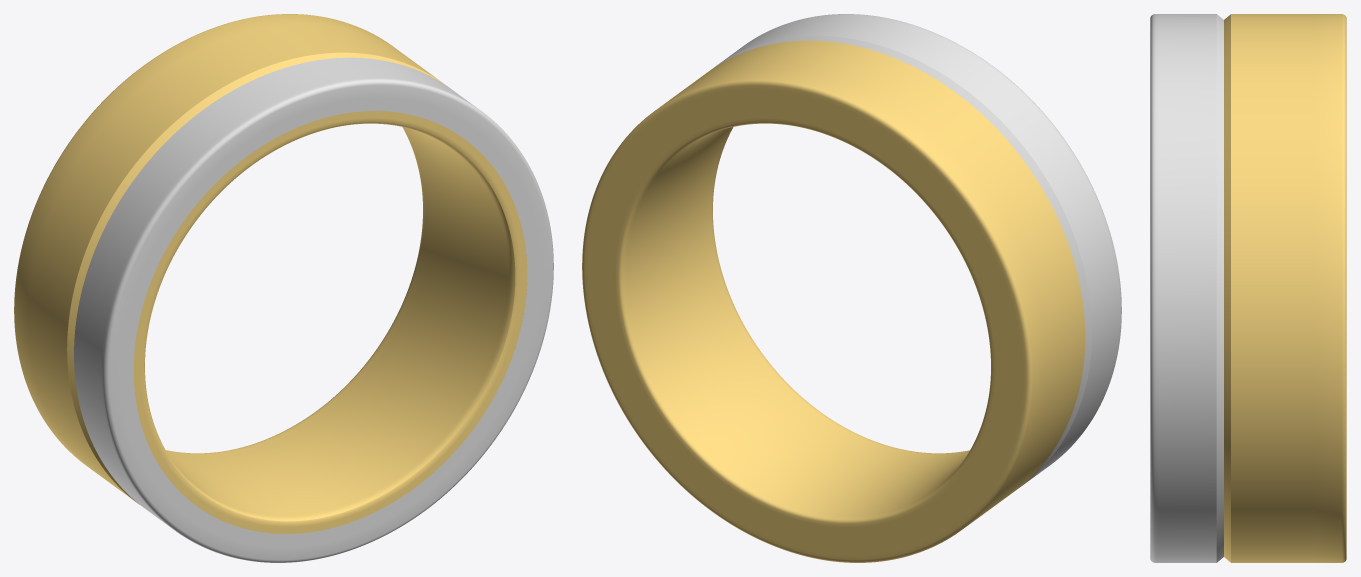
File: DavidYGPT_blender.glb
The picture shows the model from 3 angles, left to right: view 1: azimuth 30°, elevation 25°; view 2: azimuth 150°, elevation 25°; view 3: azimuth 270°, elevation 25°; orthographic projection. The views are drawn at different scales.
Parts seen in each view (by area): view 1: David YG for Render, David PT for Render; view 2: David YG for Render, David PT for Render; view 3: David YG for Render, David PT for Render.
Part boxes in pixels (x1,y1,x2,y2): David YG for Render: [14, 14, 527, 533]; David PT for Render: [74, 57, 553, 562]; David YG for Render: [582, 40, 1085, 562]; David PT for Render: [711, 14, 1121, 487]; David YG for Render: [1224, 14, 1346, 562]; David PT for Render: [1150, 14, 1223, 562].
Size of the model in its own units: 22.35 by 22.35 by 8.
